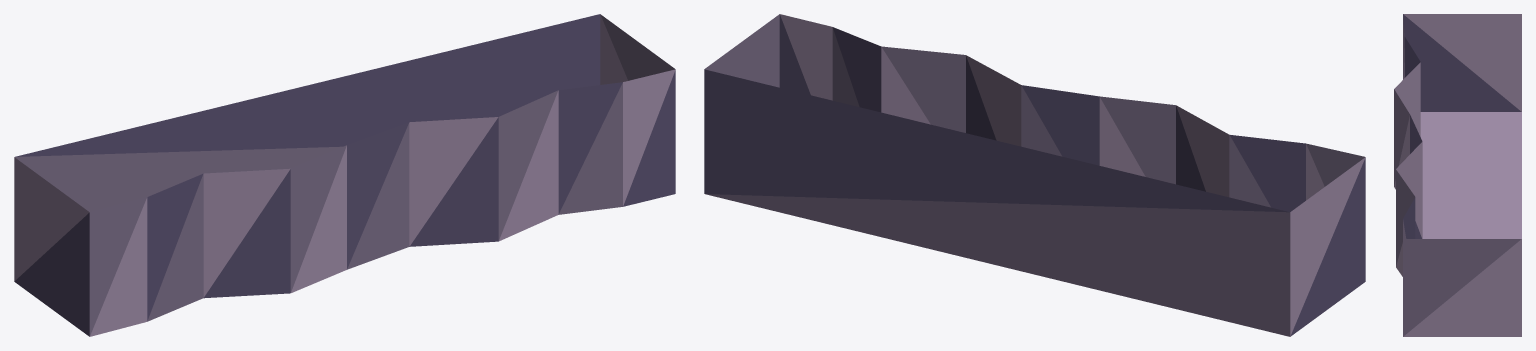
3 renders of one model, left to right at view 1: azimuth 30°, elevation 25°; view 2: azimuth 150°, elevation 25°; view 3: azimuth 270°, elevation 25°, orthographic. The views are drawn at different scales.
Visible parts, largest first — view 1: 岸壁纸层.001; view 2: 岸壁纸层.001; view 3: 岸壁纸层.001.
Part boxes in pixels (x1=…): 岸壁纸层.001: x1=14, y1=14, x2=675, y2=336; 岸壁纸层.001: x1=704, y1=14, x2=1365, y2=336; 岸壁纸层.001: x1=1394, y1=14, x2=1521, y2=336.
Size of the model in its own units: 3 by 0.61 by 0.72.
